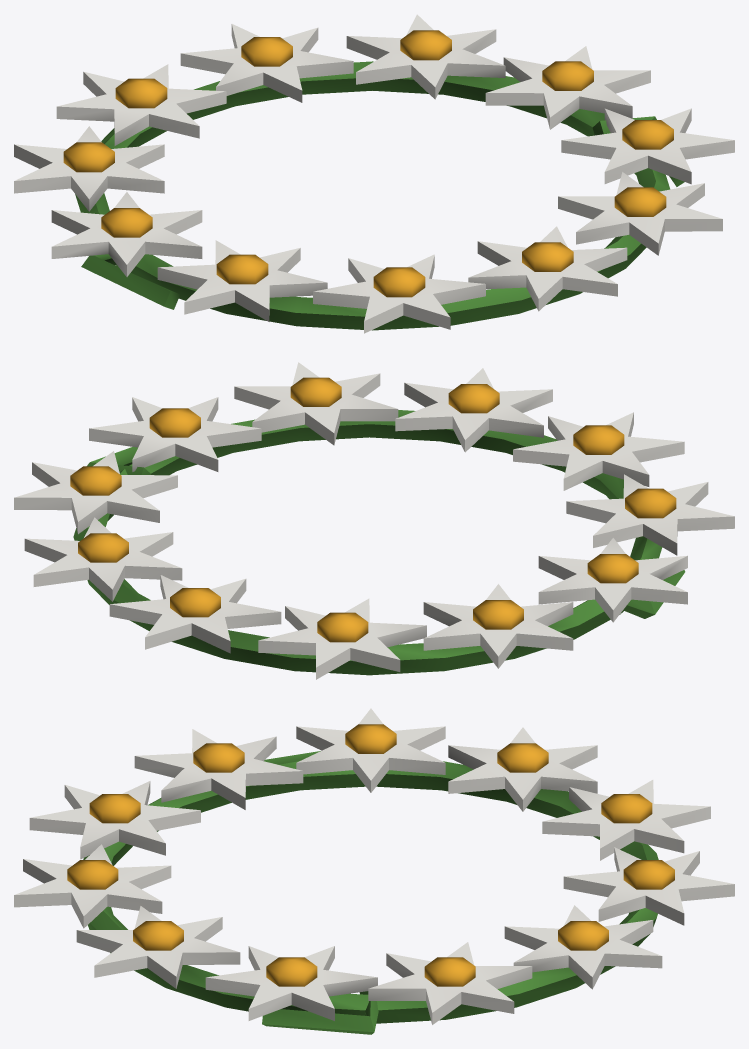
Rendered from daisyChain.glb.
3 renders of one model, top to bottom at view 1: azimuth 30°, elevation 25°; view 2: azimuth 150°, elevation 25°; view 3: azimuth 270°, elevation 25°, orthographic.
Visible parts, largest first — view 1: daisyChain; view 2: daisyChain; view 3: daisyChain.
Part boxes in pixels (<box>): daisyChain: <box>14,14,734,333</box>; daisyChain: <box>14,362,734,679</box>; daisyChain: <box>14,708,734,1034</box>.
Bounding box in the file's own units: 0.1591 × 0.0143 × 0.159.
